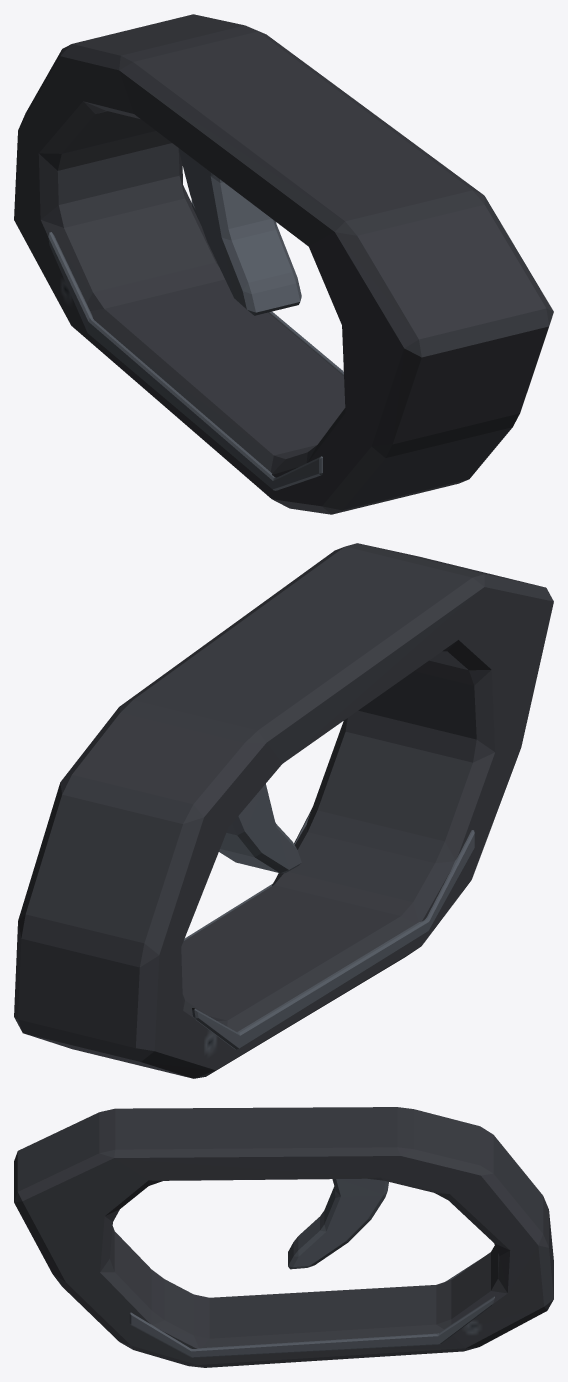
Rendered from trigger_guard.obj.
3 views of the same model, one above another, from view 1: azimuth 30°, elevation 25°; view 2: azimuth 150°, elevation 25°; view 3: azimuth 270°, elevation 25° (orthographic). The views are drawn at different scales.
Visible parts, largest first — view 1: trigger_guard; view 2: trigger_guard; view 3: trigger_guard.
Part boxes in pixels (x1,y1,x2,y2): trigger_guard: [14, 14, 553, 514]; trigger_guard: [14, 543, 553, 1078]; trigger_guard: [14, 1107, 553, 1367].
Size of the model in its own units: 0.0249 by 0.0509 by 0.1132.
1 material, 1 textured.
